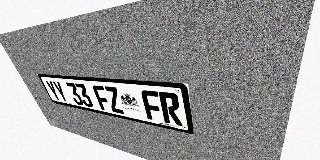3: (74, 83, 94, 108), (65, 82, 85, 106)
F: (140, 90, 164, 122), (92, 85, 112, 112)
R: (158, 92, 183, 126)
Y: (52, 81, 70, 103), (45, 80, 62, 101)
Z: (103, 86, 125, 114)
